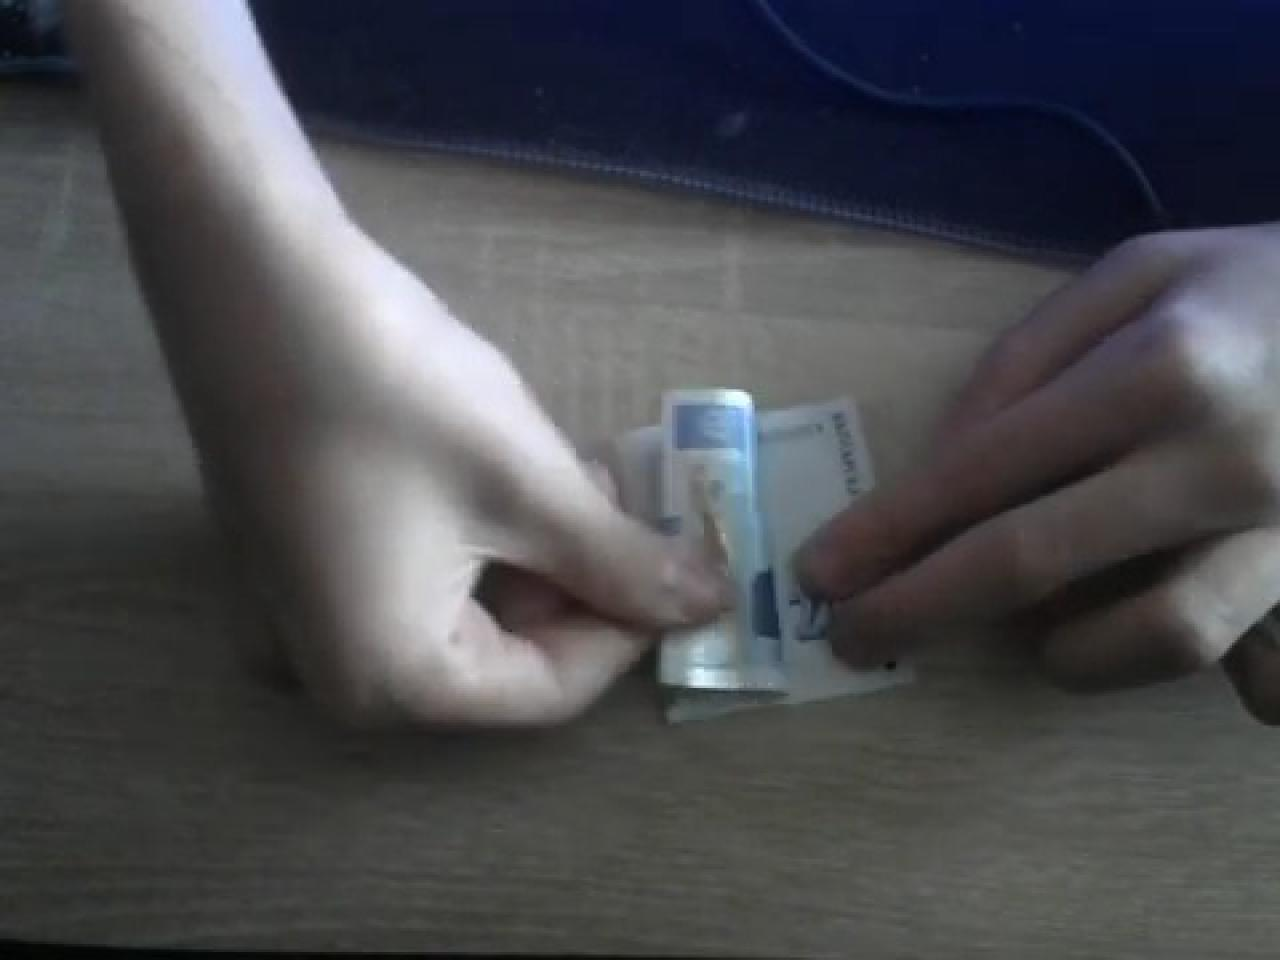20leva: (593, 381, 915, 728)
